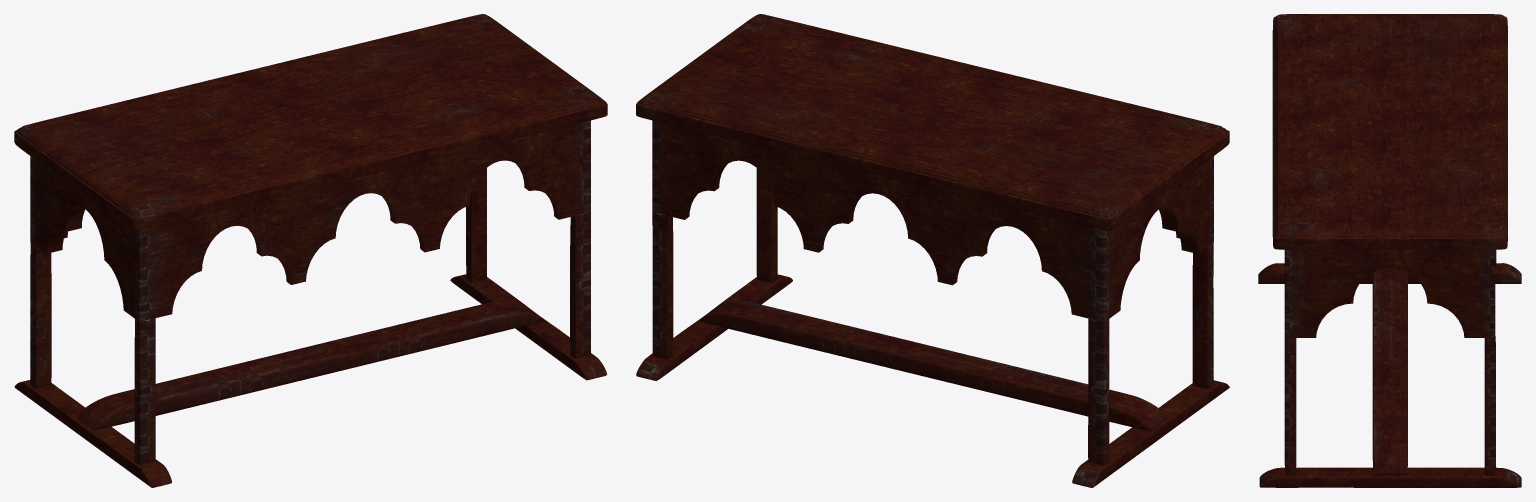
File: MedievalWoodenDesk.glb
3 views of the same model, side by side, from view 1: azimuth 30°, elevation 25°; view 2: azimuth 150°, elevation 25°; view 3: azimuth 270°, elevation 25° (orthographic). The views are drawn at different scales.
Parts seen in each view (by area): view 1: desk_2; view 2: desk_2; view 3: desk_2.
Part boxes in pixels (<box>): desk_2: <box>14,14,607,487</box>; desk_2: <box>636,14,1229,487</box>; desk_2: <box>1258,14,1521,487</box>.
Bounding box in the file's own units: 140 × 75.99 × 70.
1 material, 1 textured.
